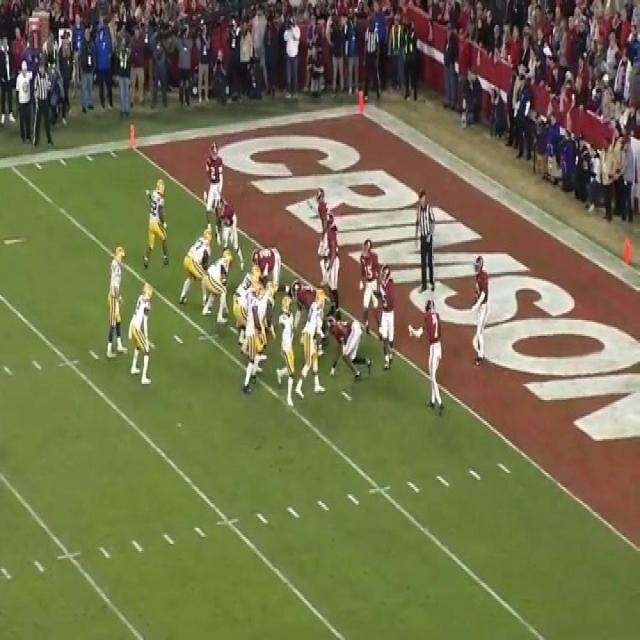center: (233, 266, 259, 314)
db: (415, 297, 450, 416), (468, 254, 489, 364), (204, 140, 224, 200), (311, 186, 331, 218)
lb: (375, 268, 399, 366), (320, 215, 346, 295), (361, 229, 376, 322)
qb: (106, 243, 128, 359)
